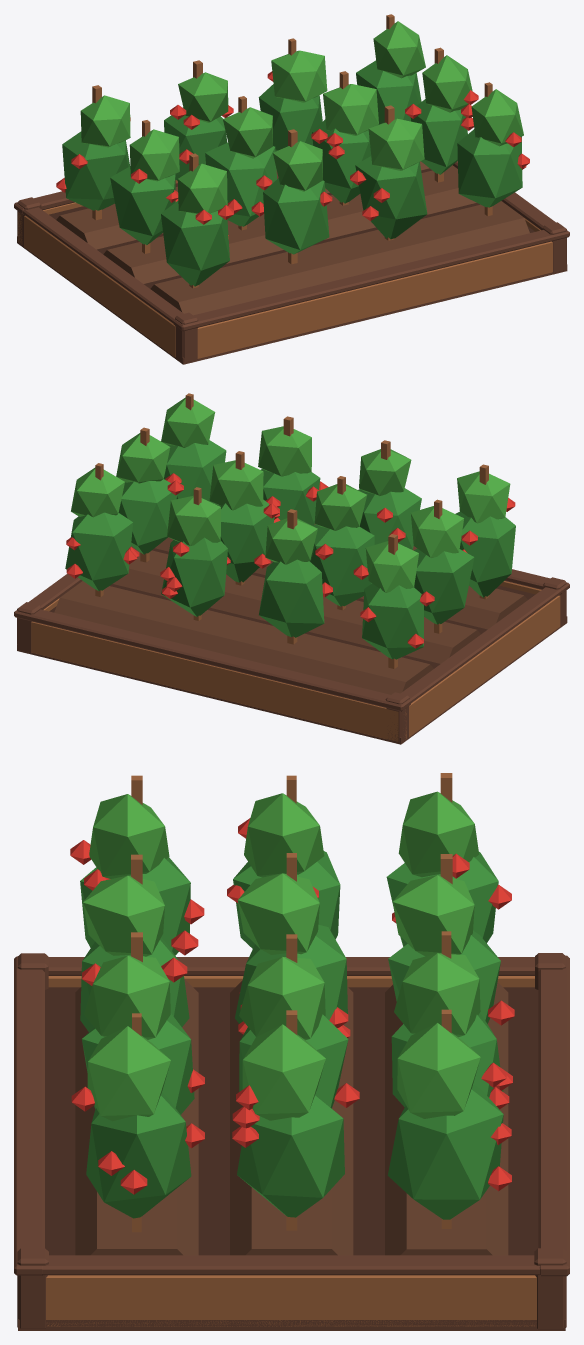
File: CropBed_Tomato.fbx
The picture shows the model from 3 angles, top to bottom: view 1: azimuth 30°, elevation 25°; view 2: azimuth 150°, elevation 25°; view 3: azimuth 270°, elevation 25°; orthographic projection. The views are drawn at different scales.
Visible parts, largest first — view 1: CropBed_Tomato; view 2: CropBed_Tomato; view 3: CropBed_Tomato.
Boxes of the visible parts, box(x1,y1,x2,y2) form: CropBed_Tomato: box(14, 14, 569, 364); CropBed_Tomato: box(14, 393, 569, 744); CropBed_Tomato: box(14, 773, 569, 1330).
Bounding box in the file's own units: 4.05 × 1.72 × 3.05.
